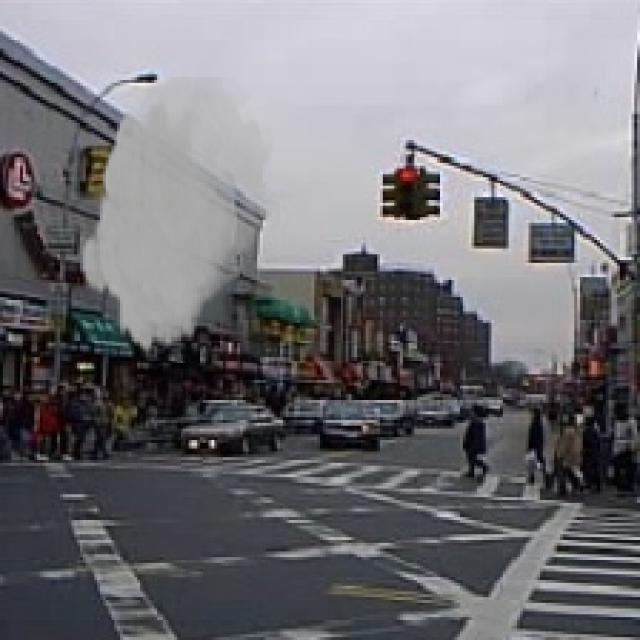smoke: (80, 77, 280, 357)
